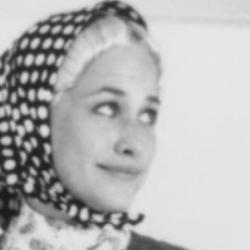face: (3, 1, 162, 227)
